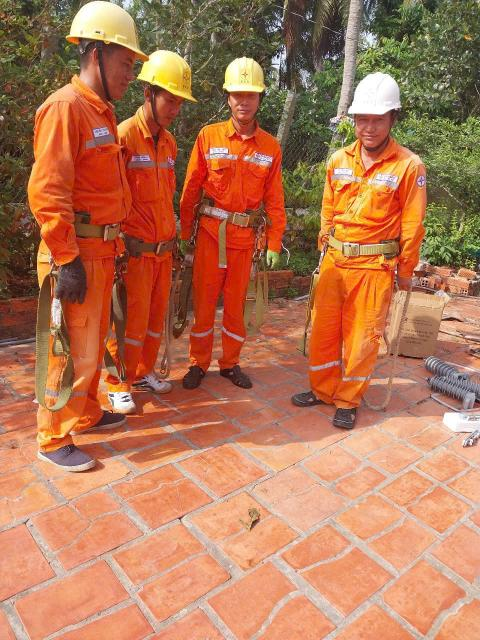gloves: (43, 258, 96, 308), (262, 242, 283, 269)
harness: (321, 213, 404, 268), (189, 188, 281, 236), (126, 221, 186, 267), (70, 208, 120, 249)
helmet: (64, 0, 161, 63), (144, 45, 202, 105), (355, 57, 403, 119), (222, 52, 281, 100)
shoes: (39, 433, 103, 474), (218, 357, 262, 396), (77, 402, 127, 432), (131, 363, 175, 396), (104, 376, 140, 416), (331, 402, 371, 431), (177, 352, 204, 391), (290, 384, 333, 407)
